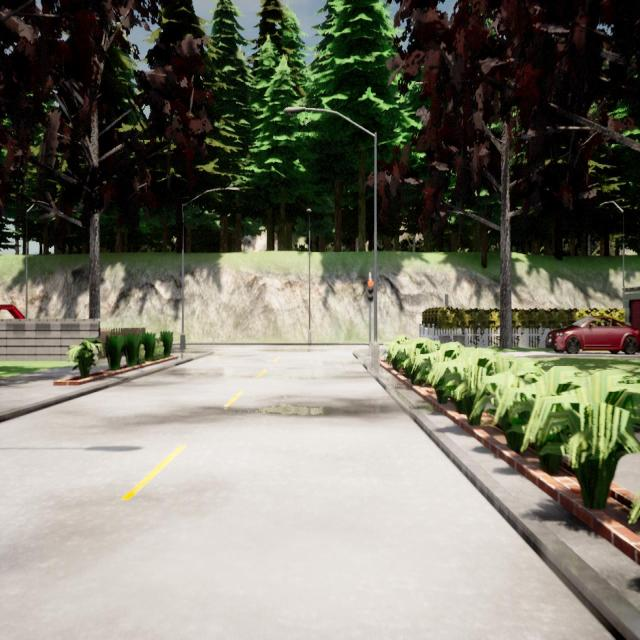Vehicle: (546, 316, 640, 353)
traffic_light: (368, 280, 374, 302)
